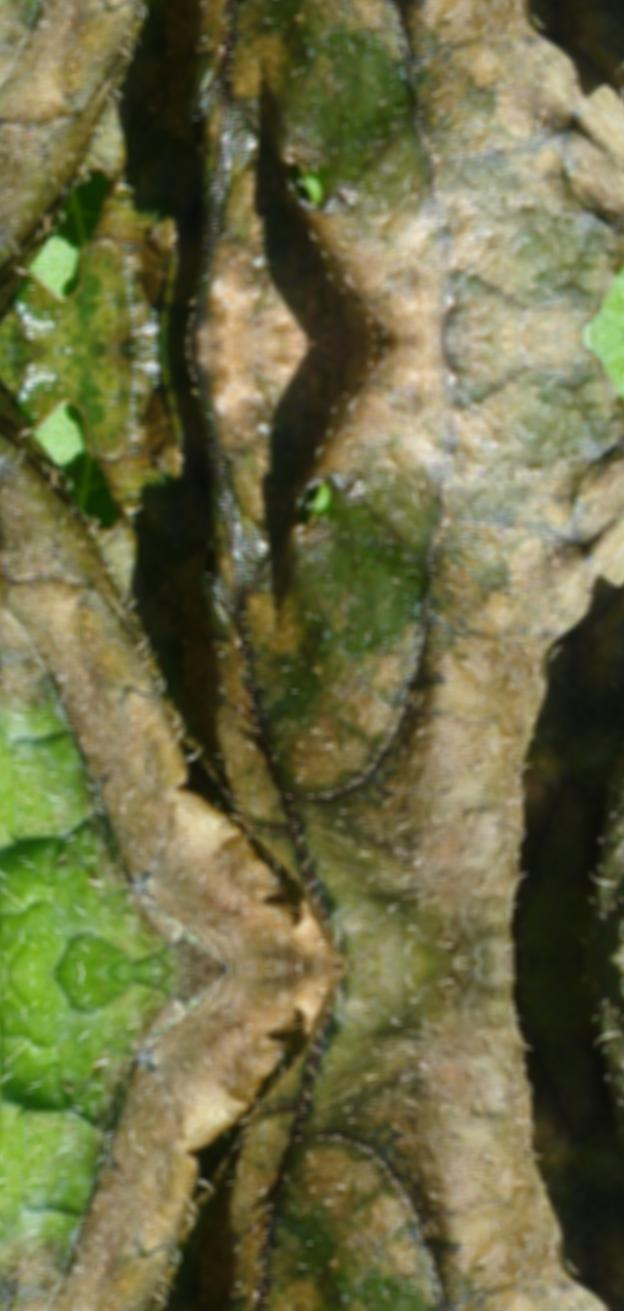Tomato leaf late blight: (0, 329, 624, 982)
